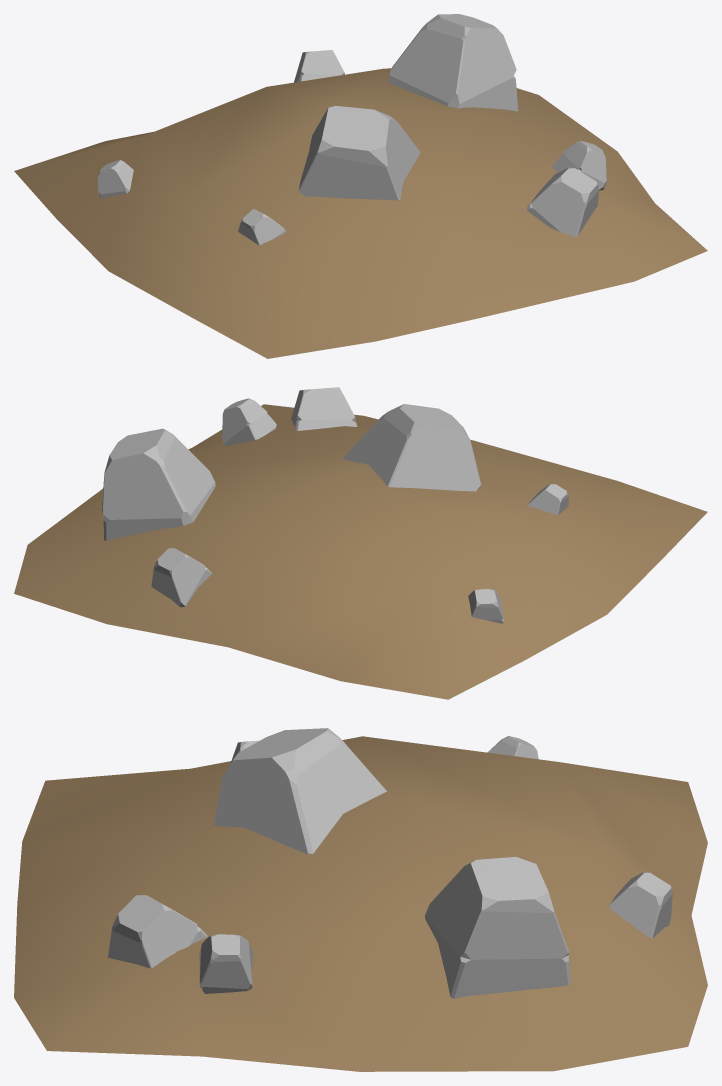
Rendered from Debris4.fbx.
3 views of the same model, one above another, from view 1: azimuth 30°, elevation 25°; view 2: azimuth 150°, elevation 25°; view 3: azimuth 270°, elevation 25° (orthographic). The views are drawn at different scales.
Visible parts, largest first — view 1: debris4; view 2: debris4; view 3: debris4.
Part boxes in pixels (x1,y1,x2,y2): debris4: (14,14,707,358); debris4: (14,387,707,699); debris4: (14,728,707,1071).
Size of the model in its own units: 428 by 104 by 406.
